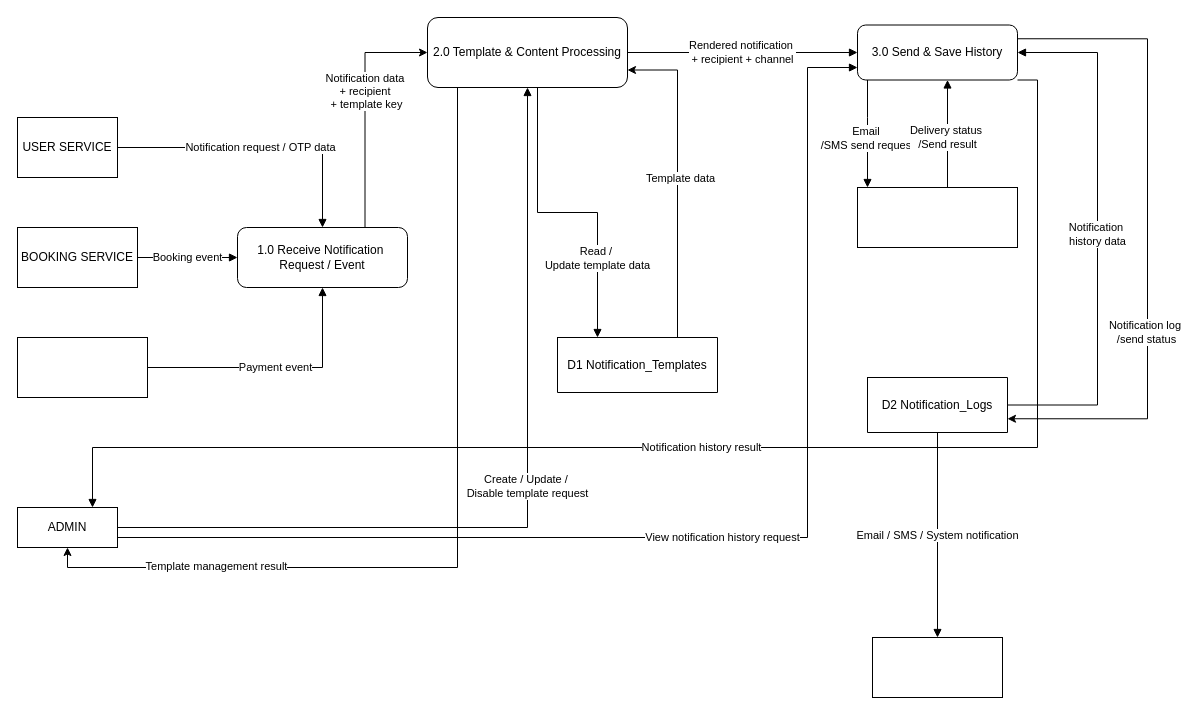
Some shapes in this 1201 by 715 pixel diagram are drawn without their labels. Each missing label, with the centre of its shape:
"CLIENT / PARTNER" goes at (x=937, y=667).
"EMAIL / SMS PROVIDER" goes at (x=937, y=217).
"PAYMENT SERVICE" goes at (x=82, y=367).
